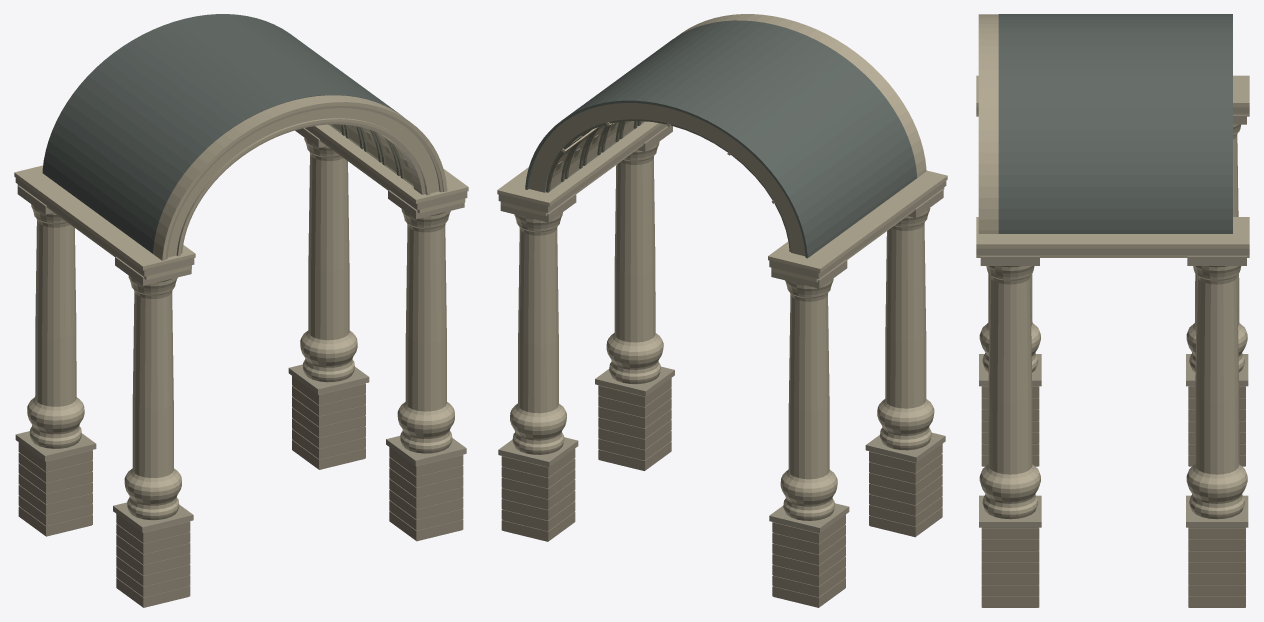
Rendered from hongkou-duolun-123-vaulted-entrance-lod.glb.
3 renders of one model, left to right at view 1: azimuth 30°, elevation 25°; view 2: azimuth 150°, elevation 25°; view 3: azimuth 270°, elevation 25°, orthographic. The views are drawn at different scales.
Parts seen in each view (by area): view 1: 多伦路123号老电影咖啡馆四柱拱廊与分格券底; view 2: 多伦路123号老电影咖啡馆四柱拱廊与分格券底; view 3: 多伦路123号老电影咖啡馆四柱拱廊与分格券底.
Part boxes in pixels (left/top/right/bottom): 多伦路123号老电影咖啡馆四柱拱廊与分格券底: left=14, top=14, right=468, bottom=607; 多伦路123号老电影咖啡馆四柱拱廊与分格券底: left=497, top=14, right=947, bottom=607; 多伦路123号老电影咖啡馆四柱拱廊与分格券底: left=976, top=14, right=1249, bottom=607.
Bounding box in the file's own units: 2.53 × 3.44 × 1.73.
